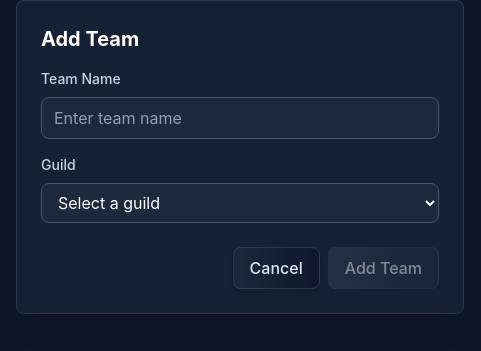
Test: TeamForm › Form Validation › shows guild error when guild is not selected
Fill only name
Type "Test Team" into the field labelled "Team Name". click: (240, 118)
box: [41,97,439,139]
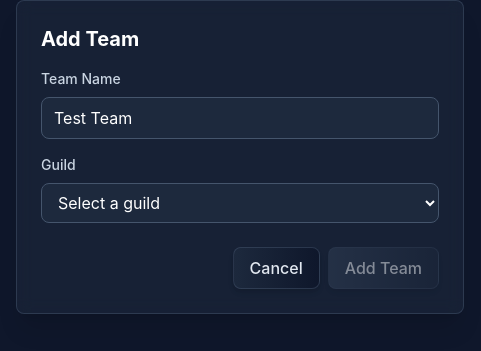
Submit the form with test id "team-form-submit"
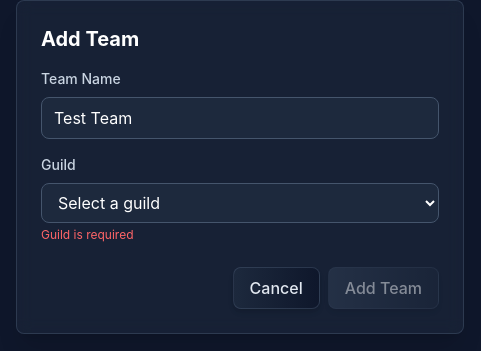
Result: the text "Guild is required" is shown at [41,227,134,242]
